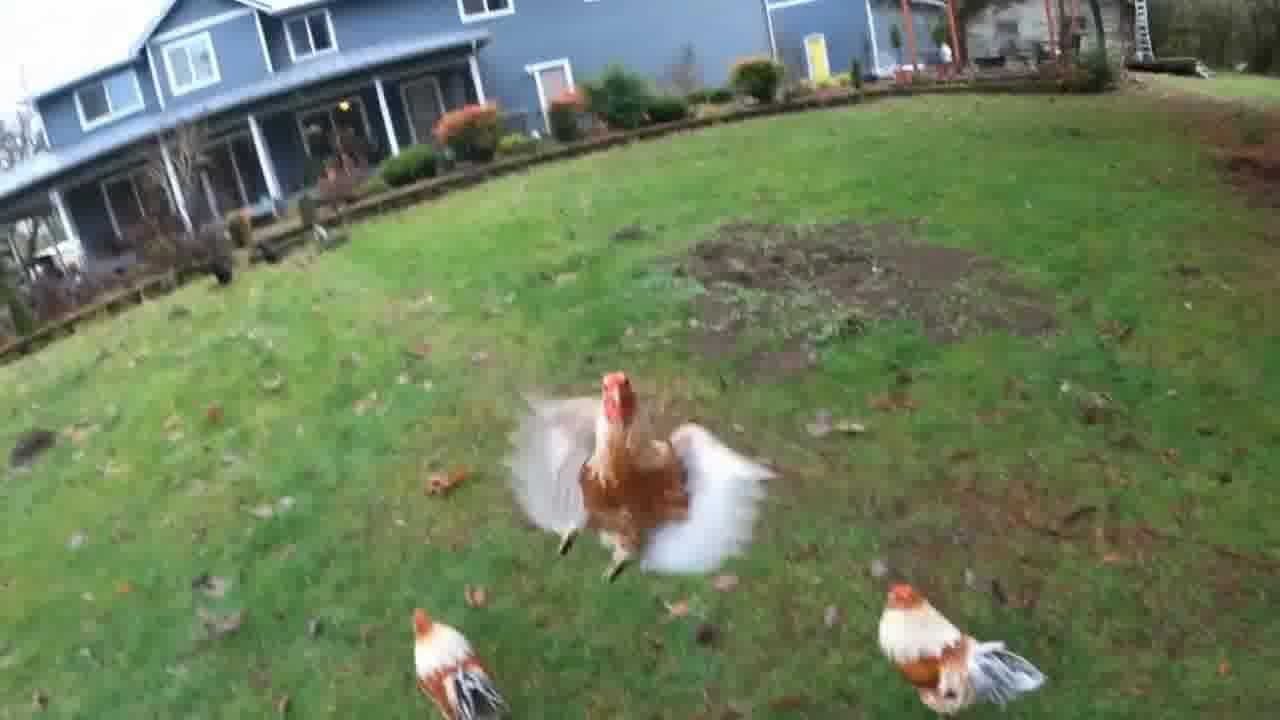Normal: (492, 366, 780, 586), (870, 552, 1046, 720), (398, 600, 556, 720)
